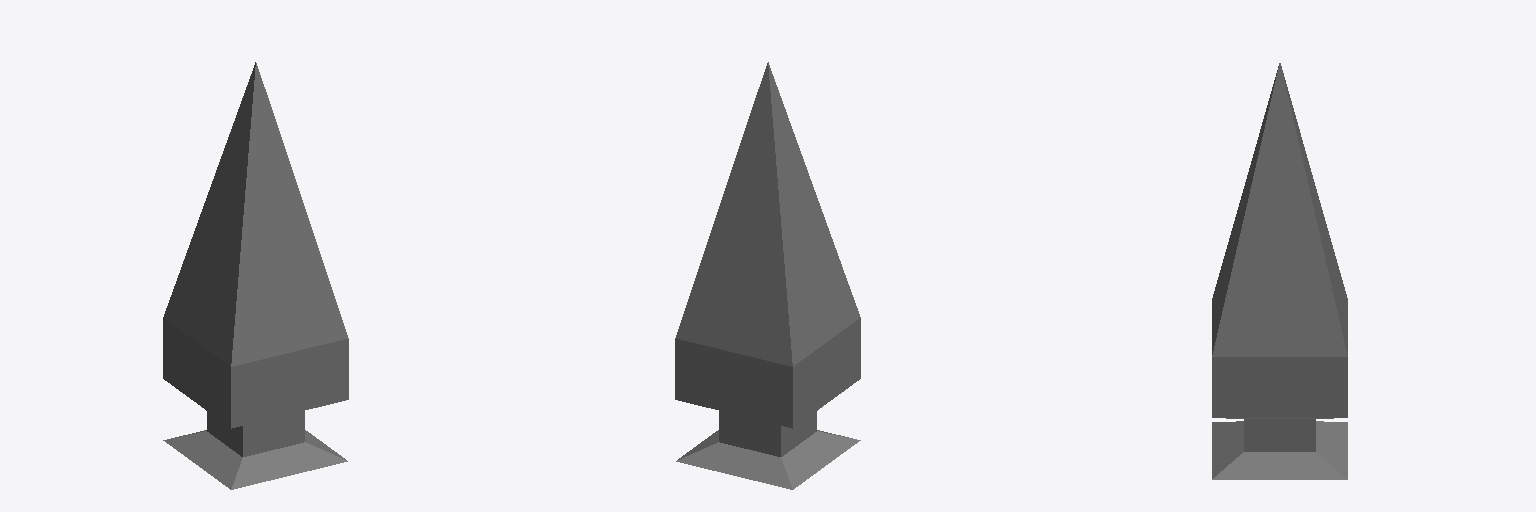
File: wuerfel.obj
The picture shows the model from 3 angles: view 1: azimuth 30°, elevation 25°; view 2: azimuth 150°, elevation 25°; view 3: azimuth 270°, elevation 25°; orthographic projection.
Parts seen in each view (by area): view 1: Cube.001; view 2: Cube.001; view 3: Cube.001.
Boxes of the visible parts, x1=… form: Cube.001: x1=163, y1=62, x2=348, y2=489; Cube.001: x1=675, y1=62, x2=860, y2=489; Cube.001: x1=1212, y1=63, x2=1347, y2=479.
Bounding box in the file's own units: 2 × 6.34 × 2.